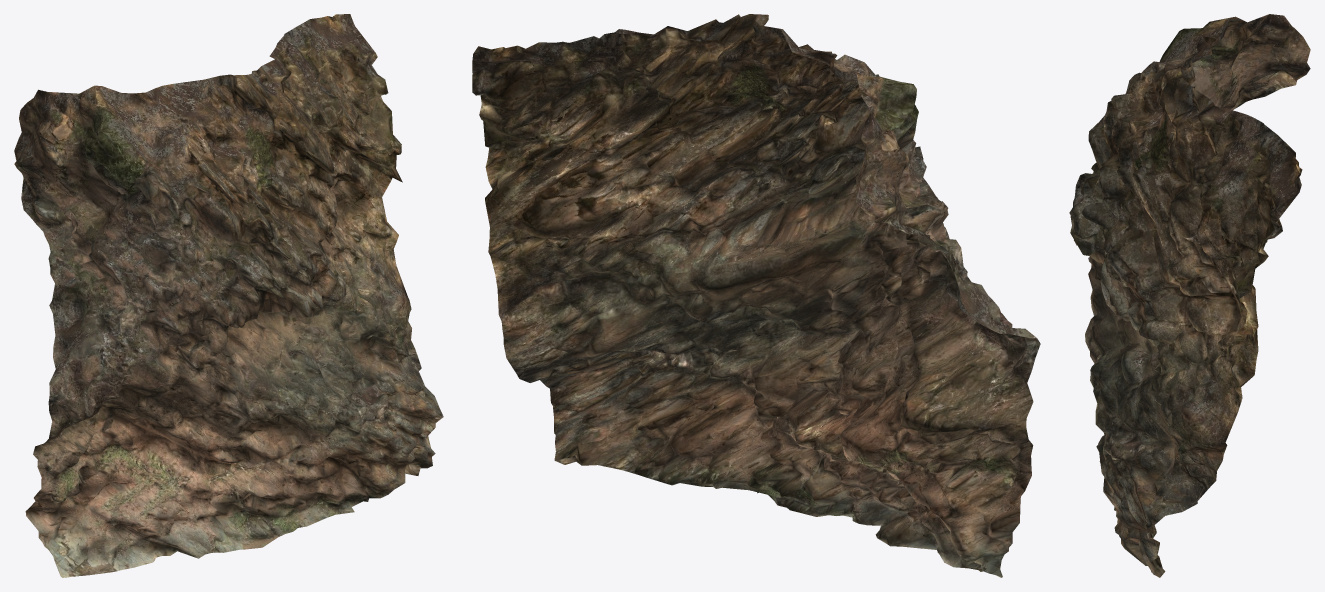
The model's file is mountainside_lod0.glb.
3 renders of one model, left to right at view 1: azimuth 30°, elevation 25°; view 2: azimuth 150°, elevation 25°; view 3: azimuth 270°, elevation 25°, orthographic. The views are drawn at different scales.
Visible parts, largest first — view 1: mountainside; view 2: mountainside; view 3: mountainside.
Part boxes in pixels (x1,y1,x2,y2): mountainside: (14, 14, 443, 577); mountainside: (472, 14, 1040, 577); mountainside: (1069, 14, 1310, 577).
Size of the model in its own units: 10.21 by 10.52 by 5.25.
1 material, 1 textured.
